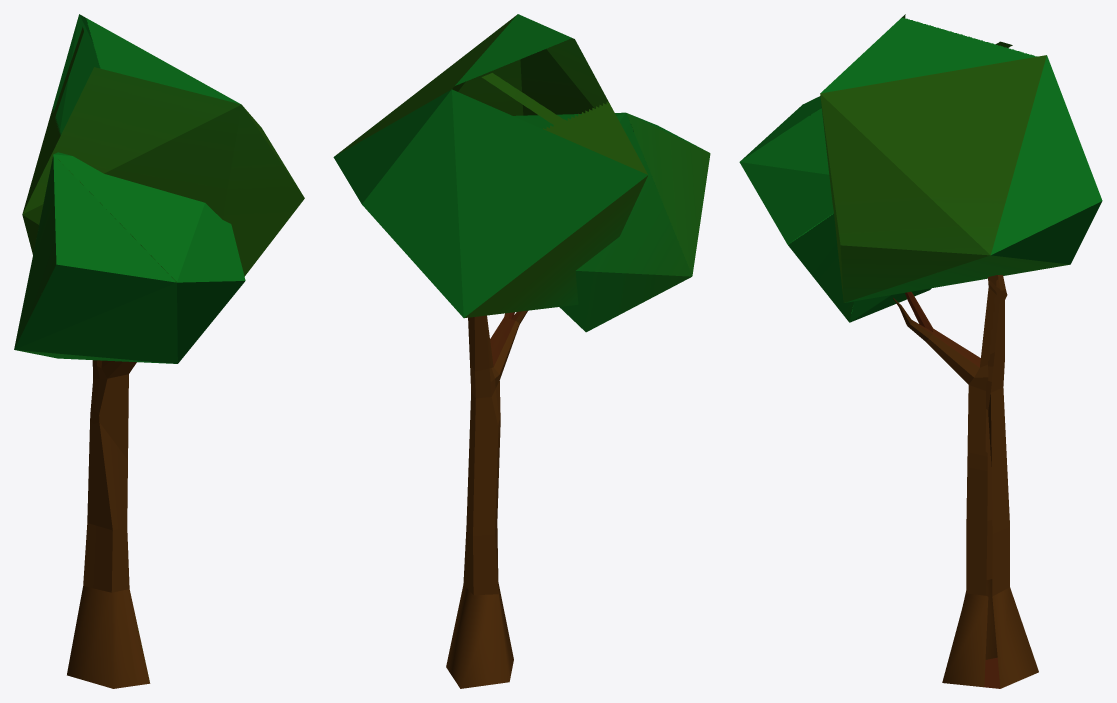
File: drzewo9.obj
3 renders of one model, left to right at view 1: azimuth 30°, elevation 25°; view 2: azimuth 150°, elevation 25°; view 3: azimuth 270°, elevation 25°, orthographic. The views are drawn at different scales.
Parts seen in each view (by area): view 1: Cylinder004; view 2: Cylinder004; view 3: Cylinder004.
Boxes of the visible parts, x1,y1,x2,y2 form: Cylinder004: (14, 14, 304, 688); Cylinder004: (333, 14, 710, 688); Cylinder004: (739, 14, 1102, 688).
Size of the model in its own units: 55.66 by 110 by 57.22.
